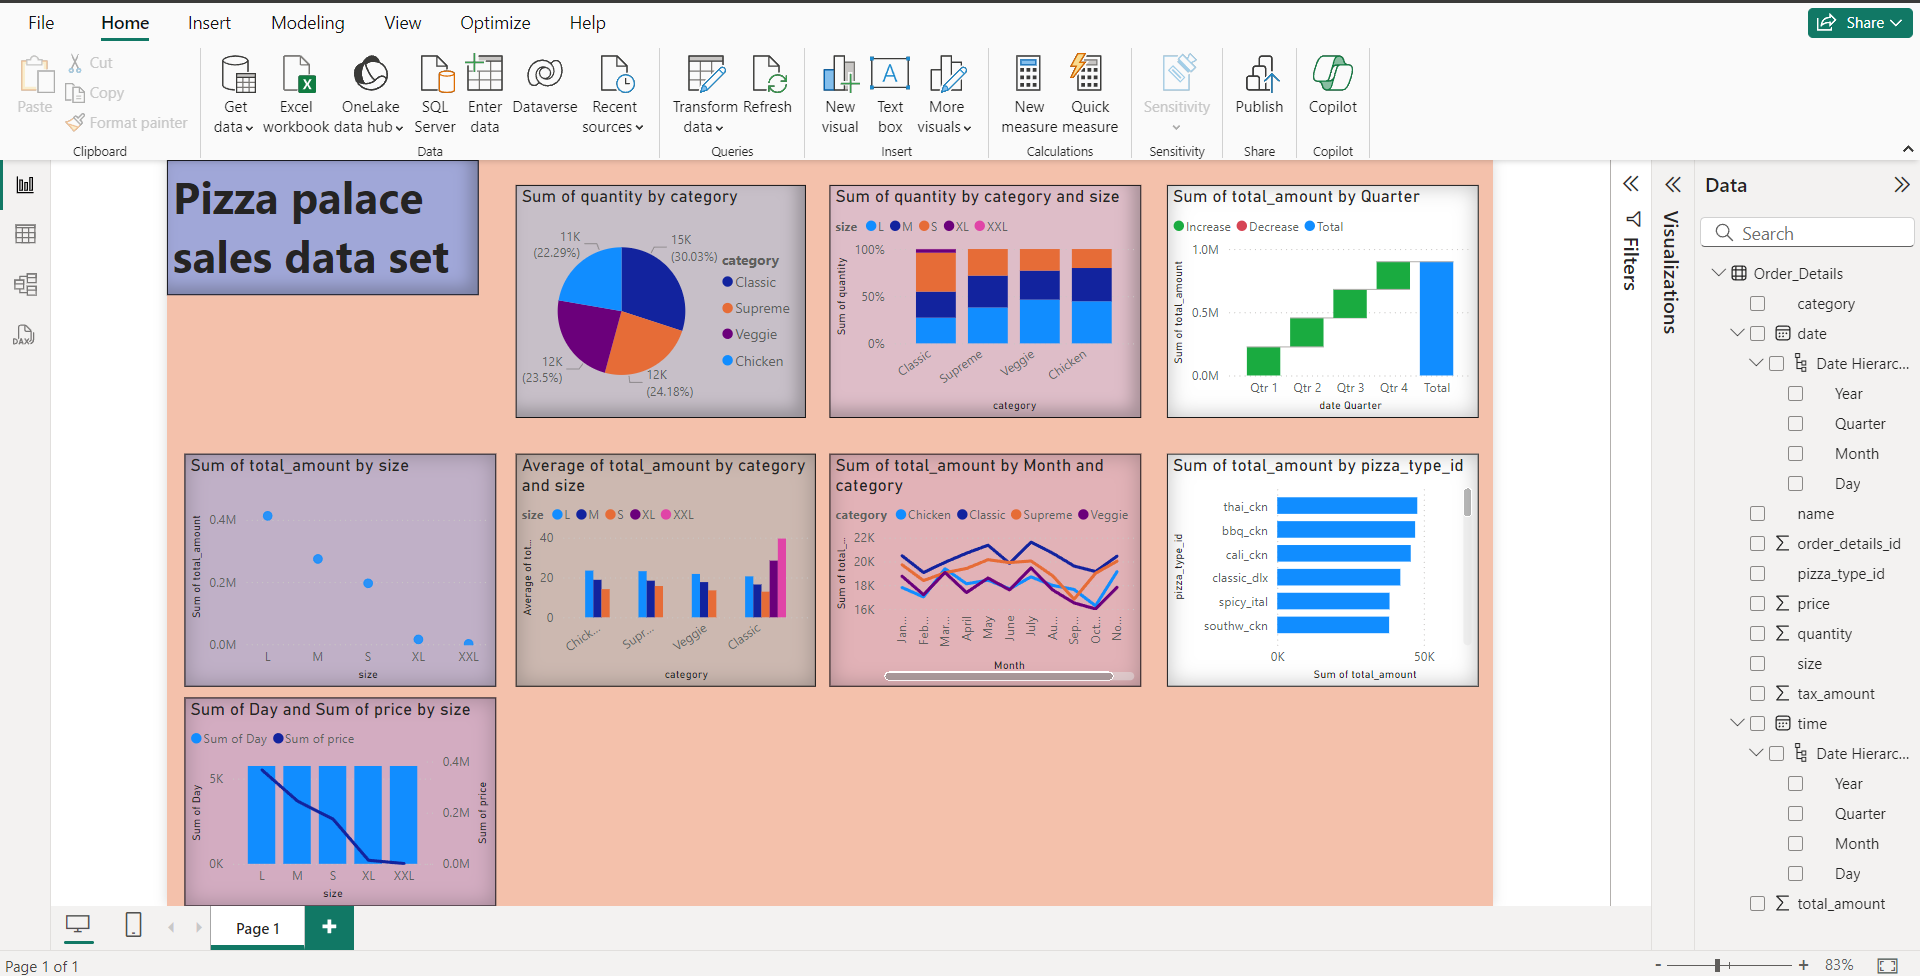

The page's visual inventory and layout, read from the dashboard file:
{"tool":"powerbi","page":{"name":"Page 1","canvas":[1280,720],"ordinal":0},"visuals":[{"type":"pieChart","fields":{"Category":["Order_Details.category"],"Y":["Sum(Order_Details.quantity)"]},"box":[336.2,24.7,279.9,225],"z":0},{"type":"textbox","box":[0,0,300.5,130.4],"z":1000},{"type":"hundredPercentStackedColumnChart","fields":{"Category":["Order_Details.category"],"Y":["Sum(Order_Details.quantity)"],"Series":["Order_Details.size"]},"box":[639.5,24.7,300.5,225],"z":2000},{"type":"clusteredColumnChart","fields":{"Category":["Order_Details.category"],"Y":["Avg(Order_Details.total_amount)"],"Series":["Order_Details.size"]},"box":[336.2,284,289.5,225],"z":3000},{"type":"waterfallChart","fields":{"Category":["Order_Details.date.Variation.Date Hierarchy.Quarter","Order_Details.category"],"Y":["Sum(Order_Details.total_amount)"]},"box":[964.7,24.7,300.5,225],"z":4000},{"type":"lineChart","fields":{"Category":["Order_Details.date.Variation.Date Hierarchy.Month"],"Y":["Sum(Order_Details.total_amount)"],"Series":["Order_Details.category"]},"box":[639.5,284,300.5,225],"z":5000},{"type":"barChart","fields":{"Category":["Order_Details.pizza_type_id"],"Y":["Sum(Order_Details.total_amount)"]},"box":[964.7,284,300.5,225],"z":6000},{"type":"scatterChart","fields":{"Y":["Sum(Order_Details.total_amount)"],"X":["Order_Details.size"]},"box":[16.5,284,300.5,225],"z":7000},{"type":"lineStackedColumnComboChart","fields":{"Category":["Order_Details.size"],"Y":["Sum(Order_Details.date.Variation.Date Hierarchy.Day)"],"Y2":["Sum(Order_Details.price)"]},"box":[16.5,518.7,300.5,201.7],"z":8000}]}

Visuals, with their boxes on the page's 1280x720 design canvas (x1, y1, x2, y2). These are canvas units, not pixel positions in the 1920x976 screenshot, which may show the page scaled, cropped or inside an application window:
pieChart - Order_Details.category x Sum(Order_Details.quantity): <box>336,25,616,250</box>
textbox: <box>0,0,300,130</box>
hundredPercentStackedColumnChart - Order_Details.category x Sum(Order_Details.quantity): <box>640,25,940,250</box>
clusteredColumnChart - Order_Details.category x Avg(Order_Details.total_amount): <box>336,284,626,509</box>
waterfallChart - Order_Details.date.Variation.Date Hierarchy.Quarter x Order_Details.category: <box>965,25,1265,250</box>
lineChart - Order_Details.date.Variation.Date Hierarchy.Month x Sum(Order_Details.total_amount): <box>640,284,940,509</box>
barChart - Order_Details.pizza_type_id x Sum(Order_Details.total_amount): <box>965,284,1265,509</box>
scatterChart - Sum(Order_Details.total_amount) x Order_Details.size: <box>16,284,317,509</box>
lineStackedColumnComboChart - Order_Details.size x Sum(Order_Details.date.Variation.Date Hierarchy.Day): <box>16,519,317,720</box>
